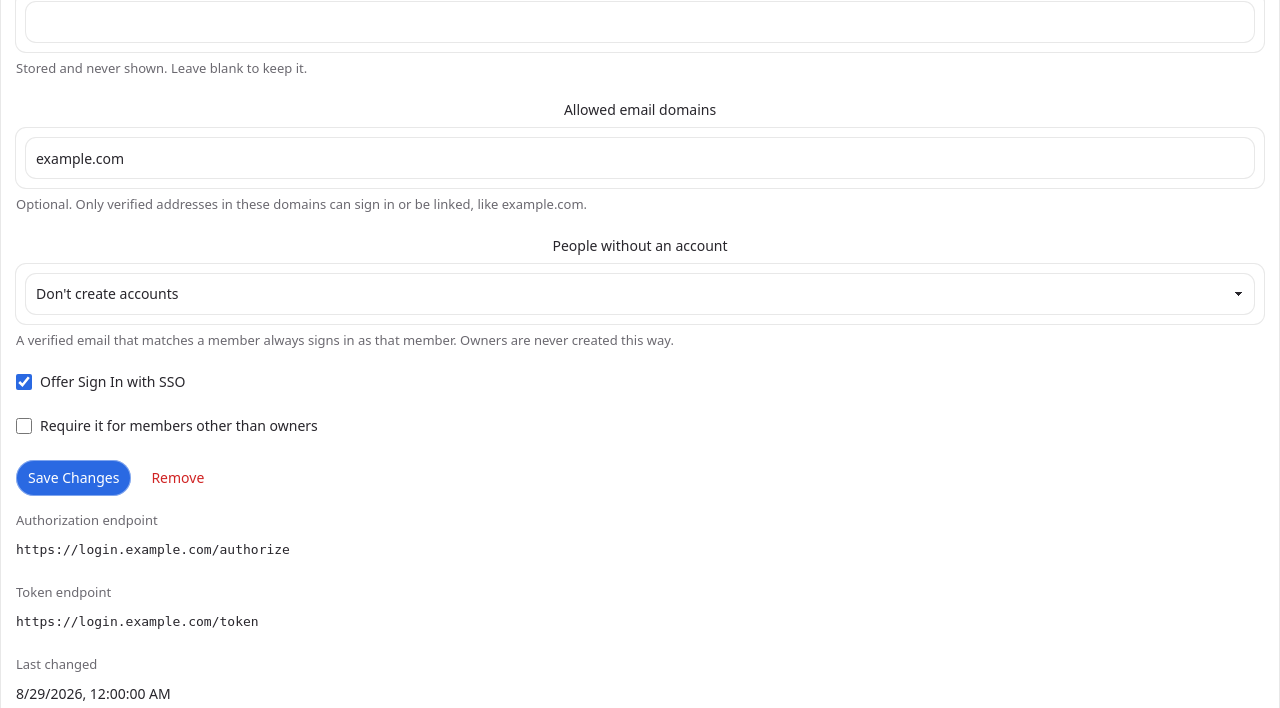
Test: Single sign-on settings › removes the provider after confirmation
(page scrolled)
Click the button "Remove" at [178, 478], box [139,460,216,496]
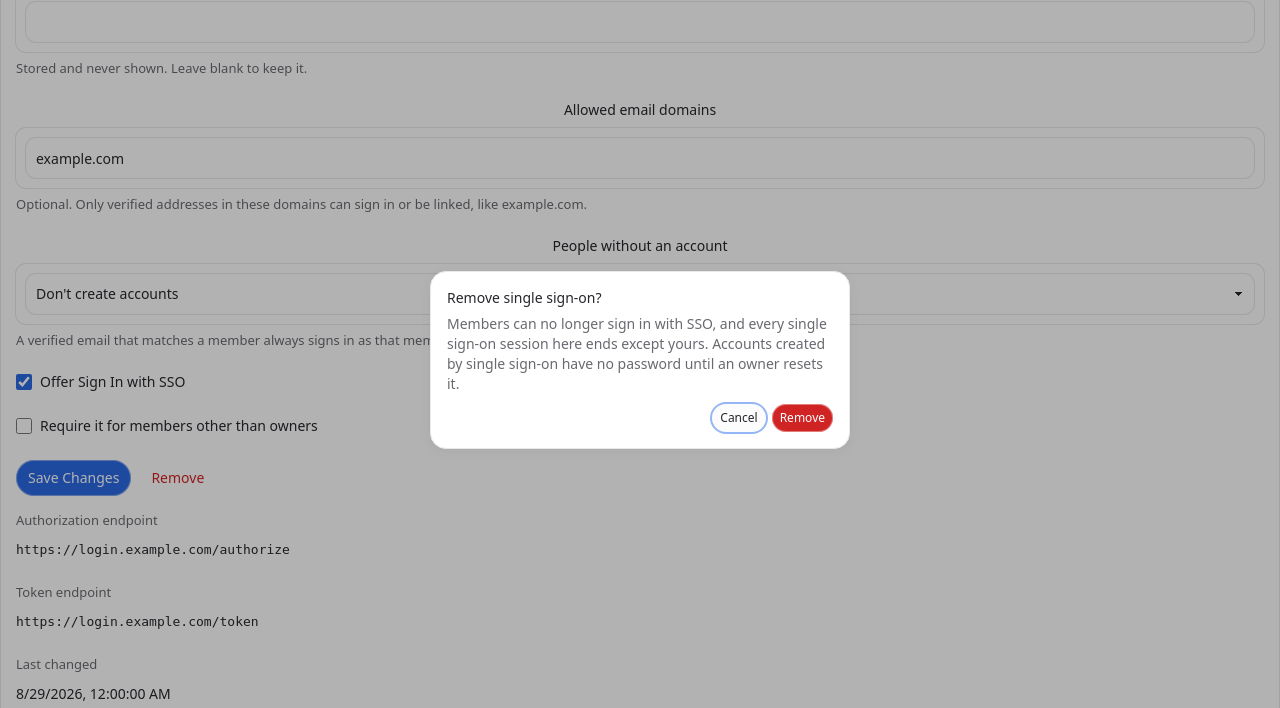
Click the button "Remove" at [802, 418], box [772,404,833,432]
(page scrolled)
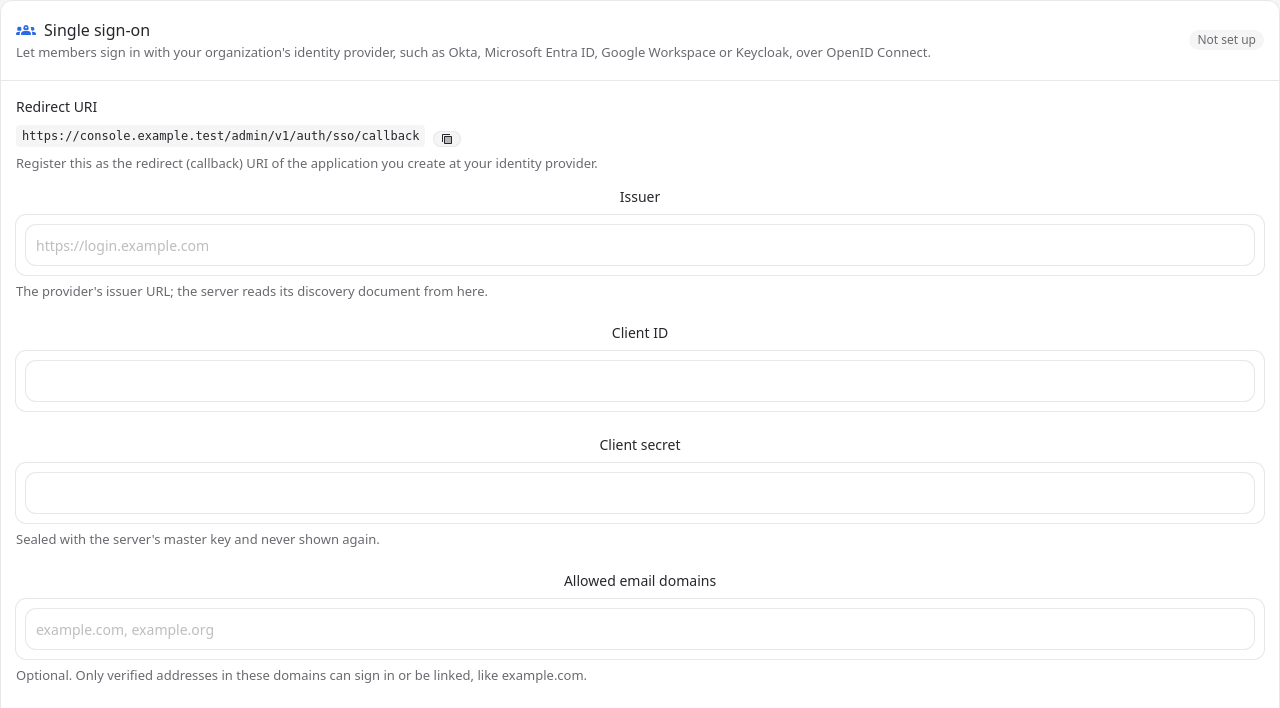
Expected: the text "Not set up" is shown, [1197,32,1256,48]
